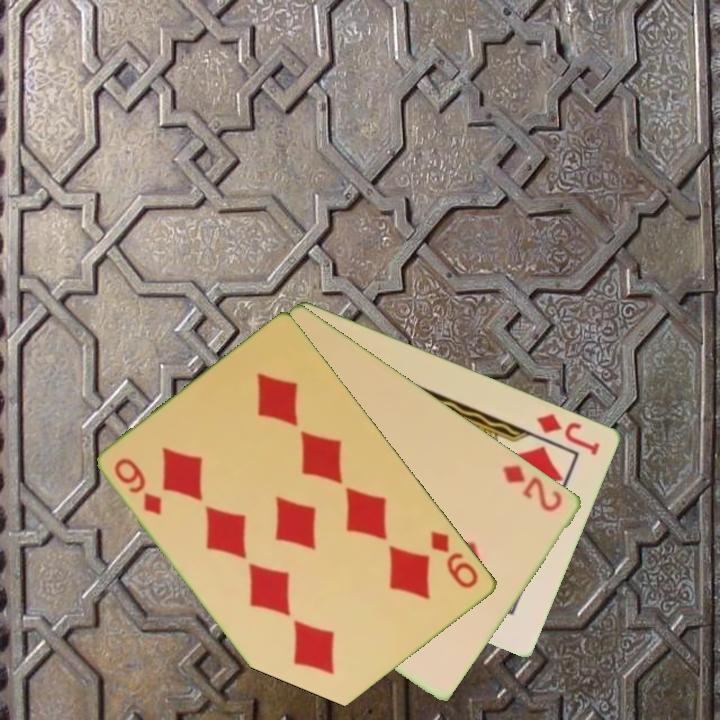2d: (499, 460, 566, 515)
9d: (110, 454, 166, 519), (427, 527, 482, 592)
Jd: (534, 409, 604, 458)
